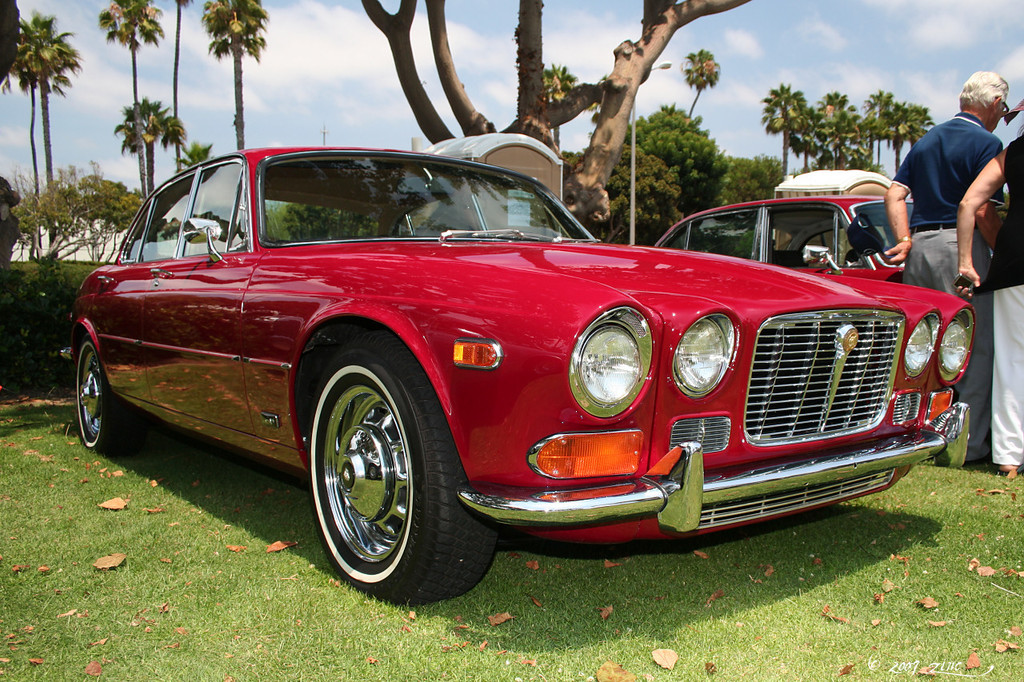Car: (63, 149, 976, 595), (649, 189, 908, 272)
